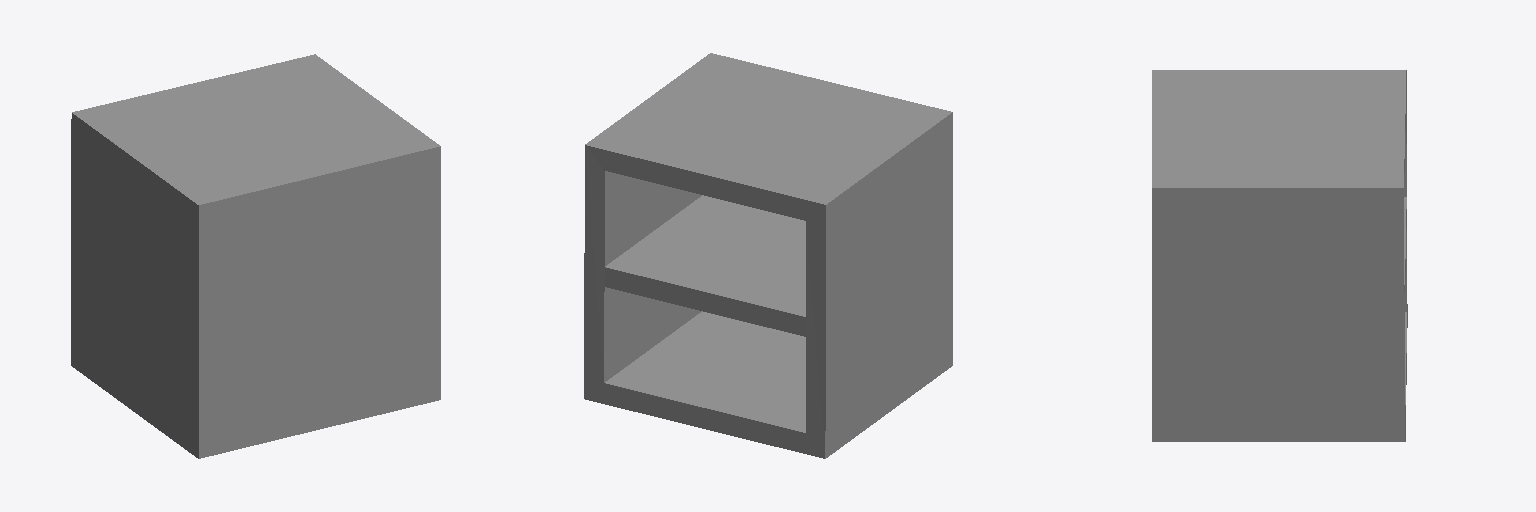
Rendered from kitchen_wooden_cabinet.obj.
3 renders of one model, left to right at view 1: azimuth 30°, elevation 25°; view 2: azimuth 150°, elevation 25°; view 3: azimuth 270°, elevation 25°, orthographic.
Parts seen in each view (by area): view 1: Cube.000; view 2: Cube.000; view 3: Cube.000.
Part boxes in pixels (x1,y1,x2,y2): Cube.000: (71,54,440,458); Cube.000: (584,53,952,458); Cube.000: (1152,70,1407,441).
Size of the model in its own units: 2 by 2 by 1.82.